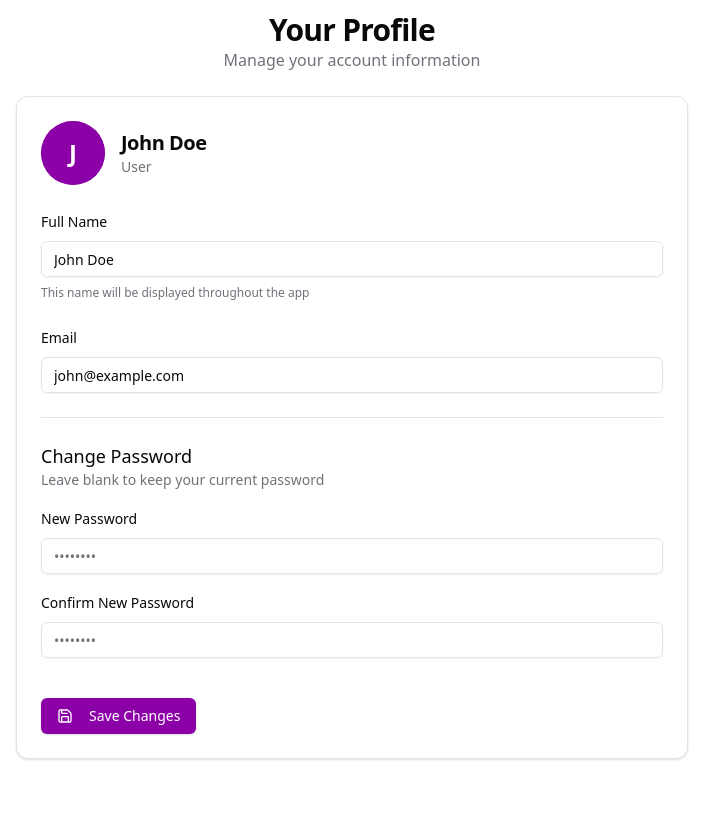
Test: Profile › validates password confirmation match
Step 1. Type "password123" into the password field labelled "New Password" → (352,556), box [41,538,663,574]
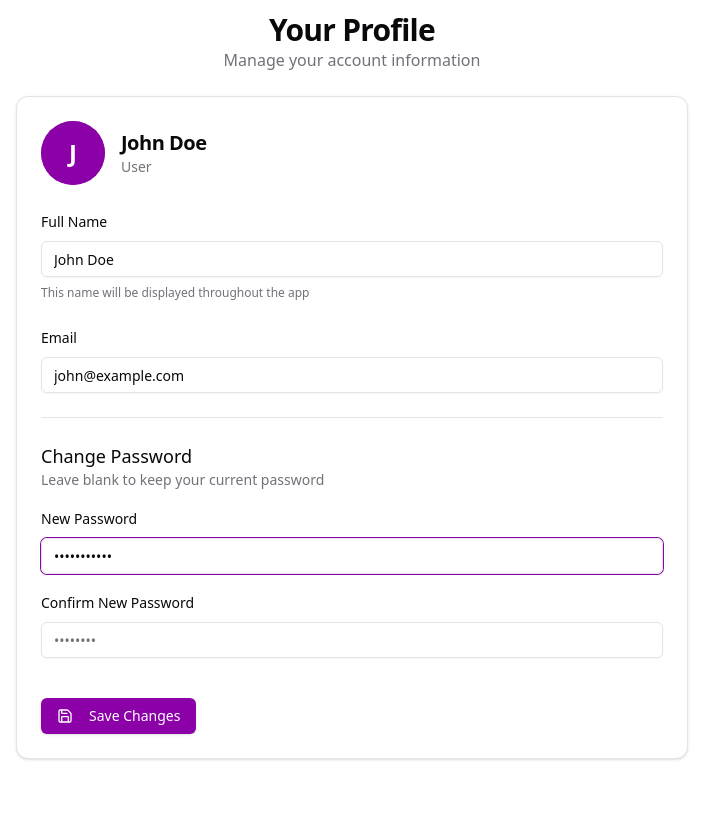
Step 2. Type "differentpassword" into the password field labelled "Confirm New Password" → (352,640), box [41,622,663,658]
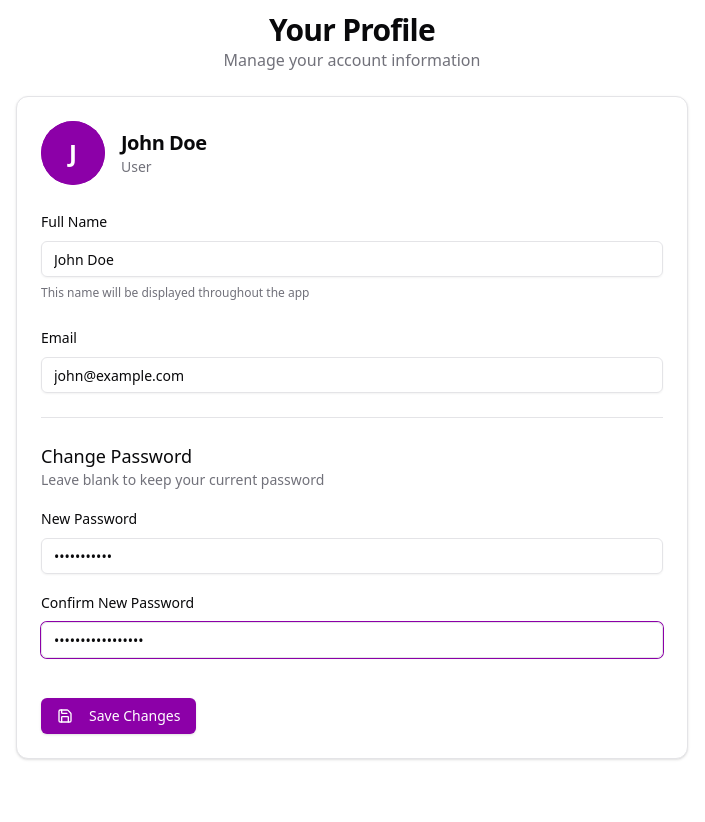
Step 3. Click the button "Save Changes" → (119,716), box [41,698,196,734]
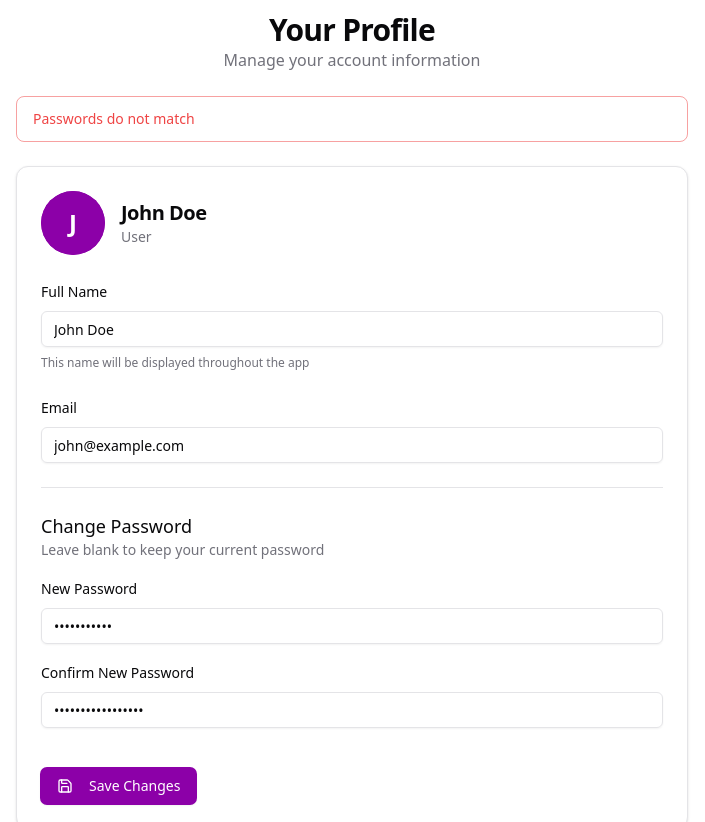
Expected: the text "Passwords do not match" is shown, [33,109,195,128]
